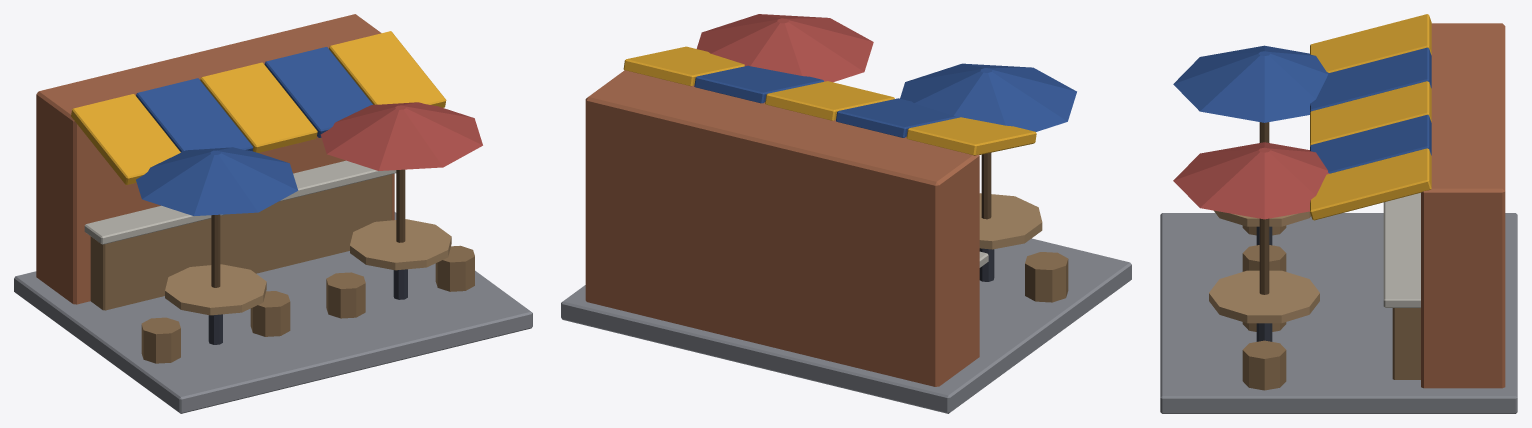
File: Stylized_Landmark_CafePatio.fbx
3 renders of one model, left to right at view 1: azimuth 30°, elevation 25°; view 2: azimuth 150°, elevation 25°; view 3: azimuth 270°, elevation 25°, orthographic. The views are drawn at different scales.
Visible parts, largest first — view 1: Stylized_Landmark_CafePatio; view 2: Stylized_Landmark_CafePatio; view 3: Stylized_Landmark_CafePatio.
Boxes of the visible parts, x1,y1,x2,y2 form: Stylized_Landmark_CafePatio: (14,14,532,413); Stylized_Landmark_CafePatio: (561,14,1131,413); Stylized_Landmark_CafePatio: (1160,14,1517,413).
Size of the model in its own units: 4.4 by 2.51 by 3.6.
